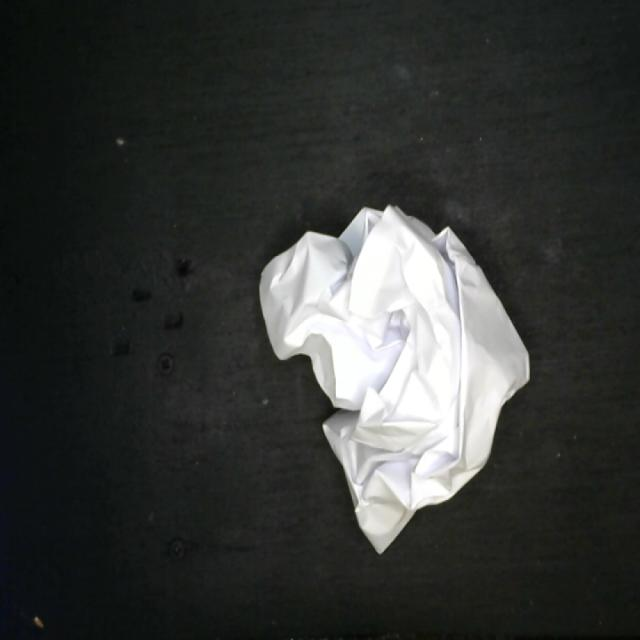biodegradable: (256, 203, 532, 558)
